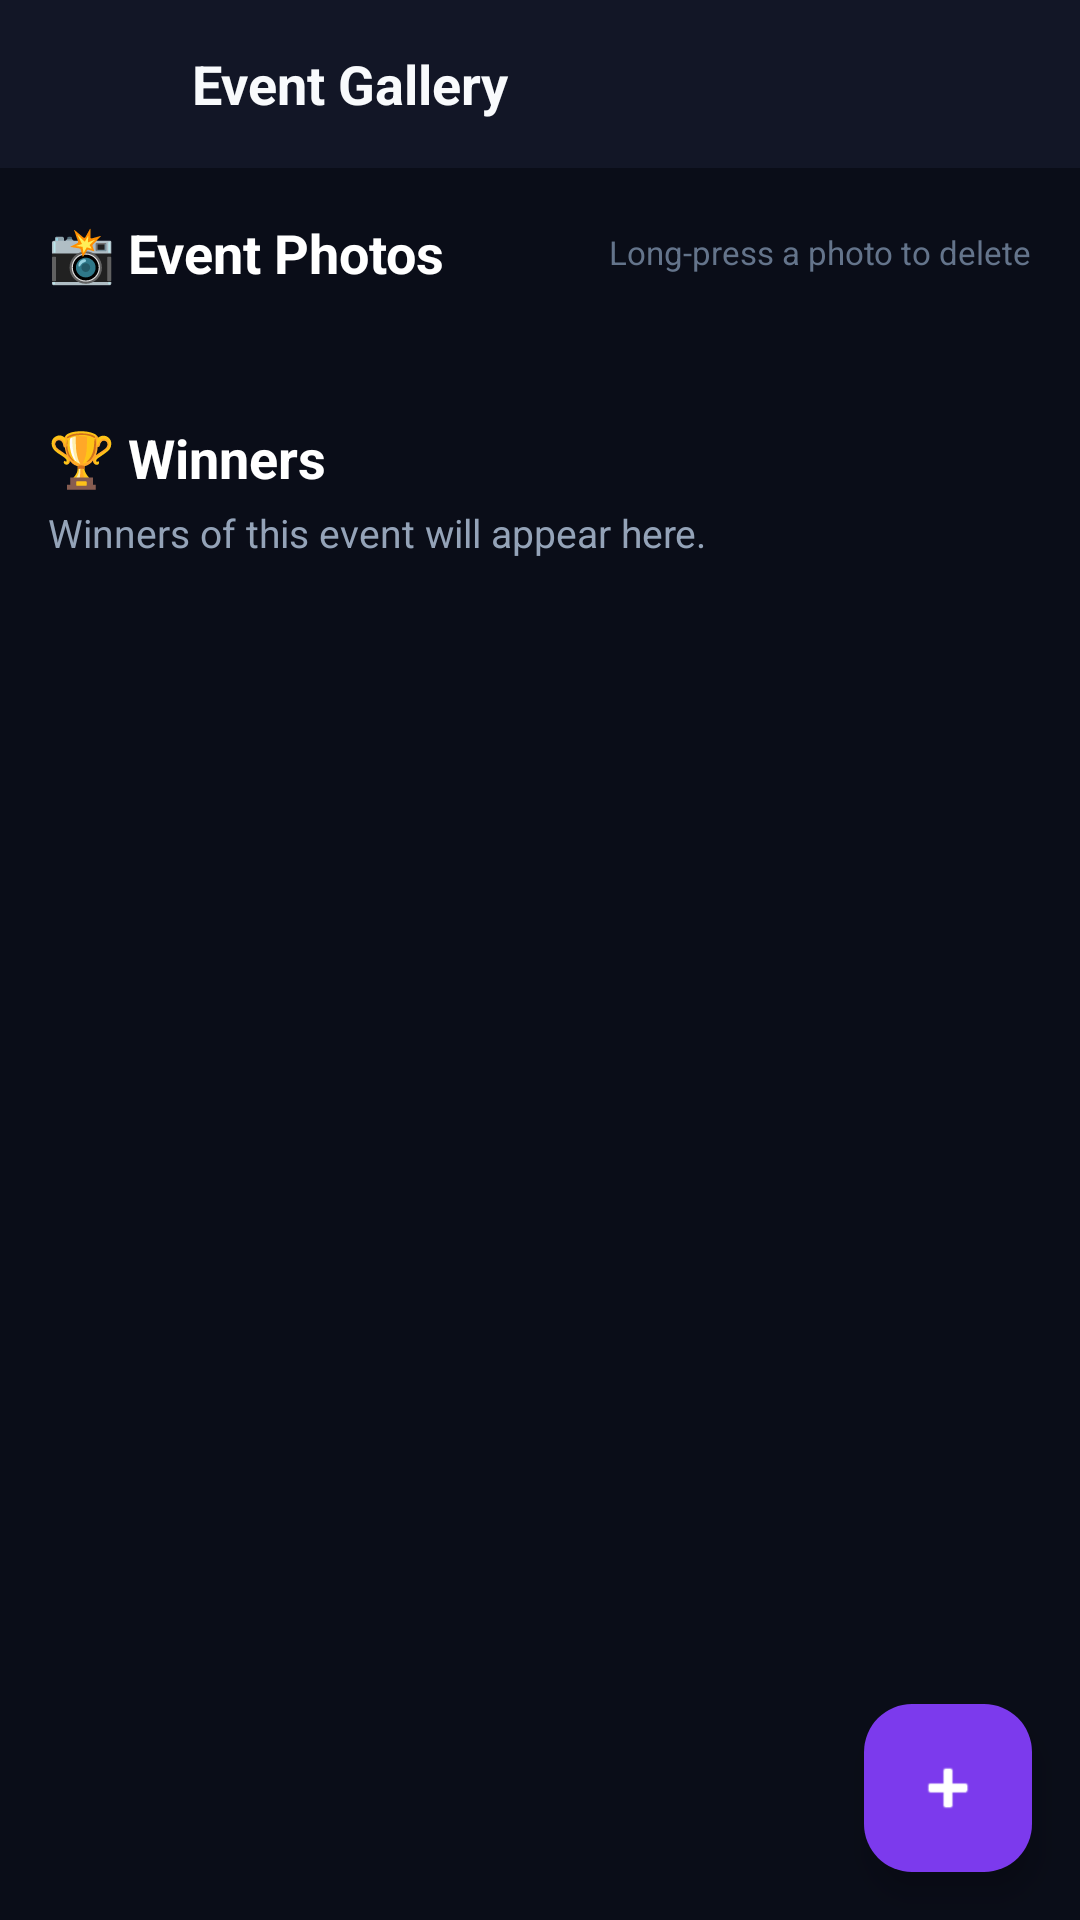

Named icons in this screenshot (1080*1920) and their bounding boxes, (x1, y1, x2, y2):
Add Photos: (864, 1704, 1032, 1872)
